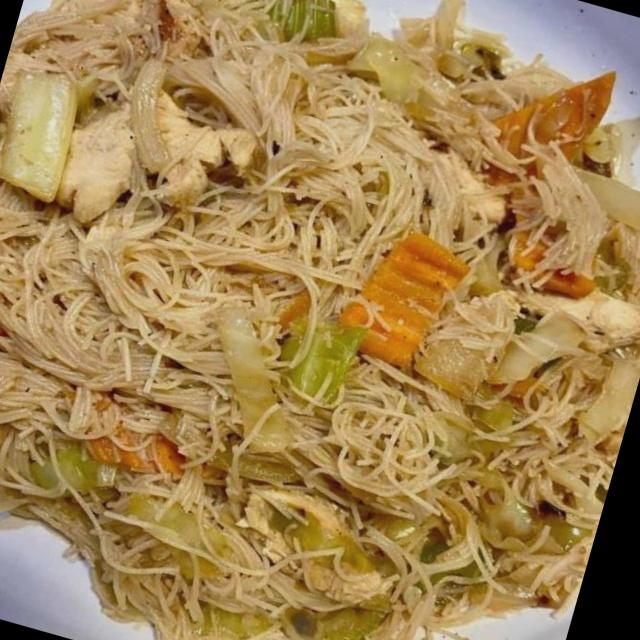pancit bihon: (0, 0, 639, 639)
